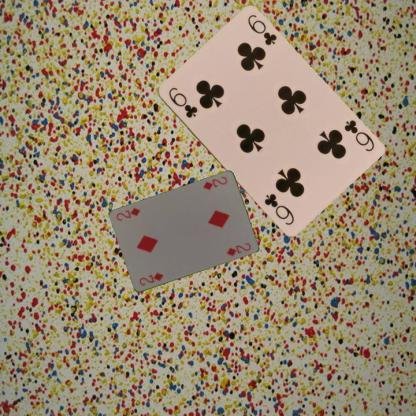2d: (200, 174, 228, 191), (136, 270, 164, 286)
6c: (341, 117, 375, 153), (165, 84, 199, 119)
